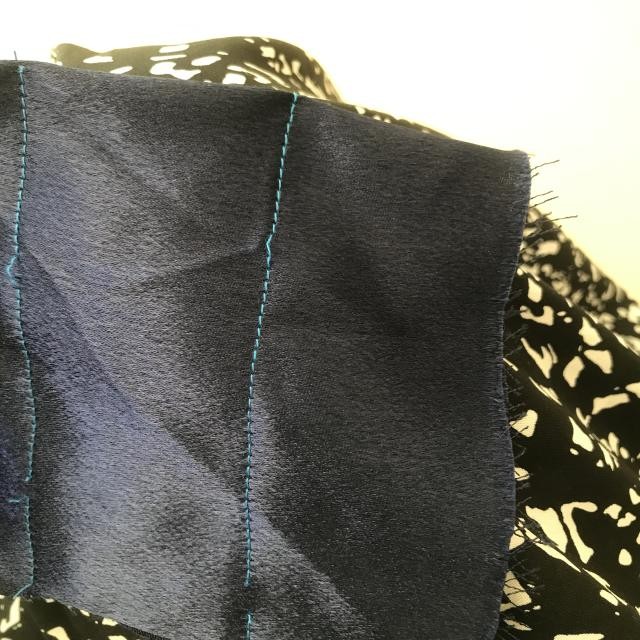good: (235, 383, 269, 508), (270, 130, 293, 191)
skip: (251, 225, 304, 273)
